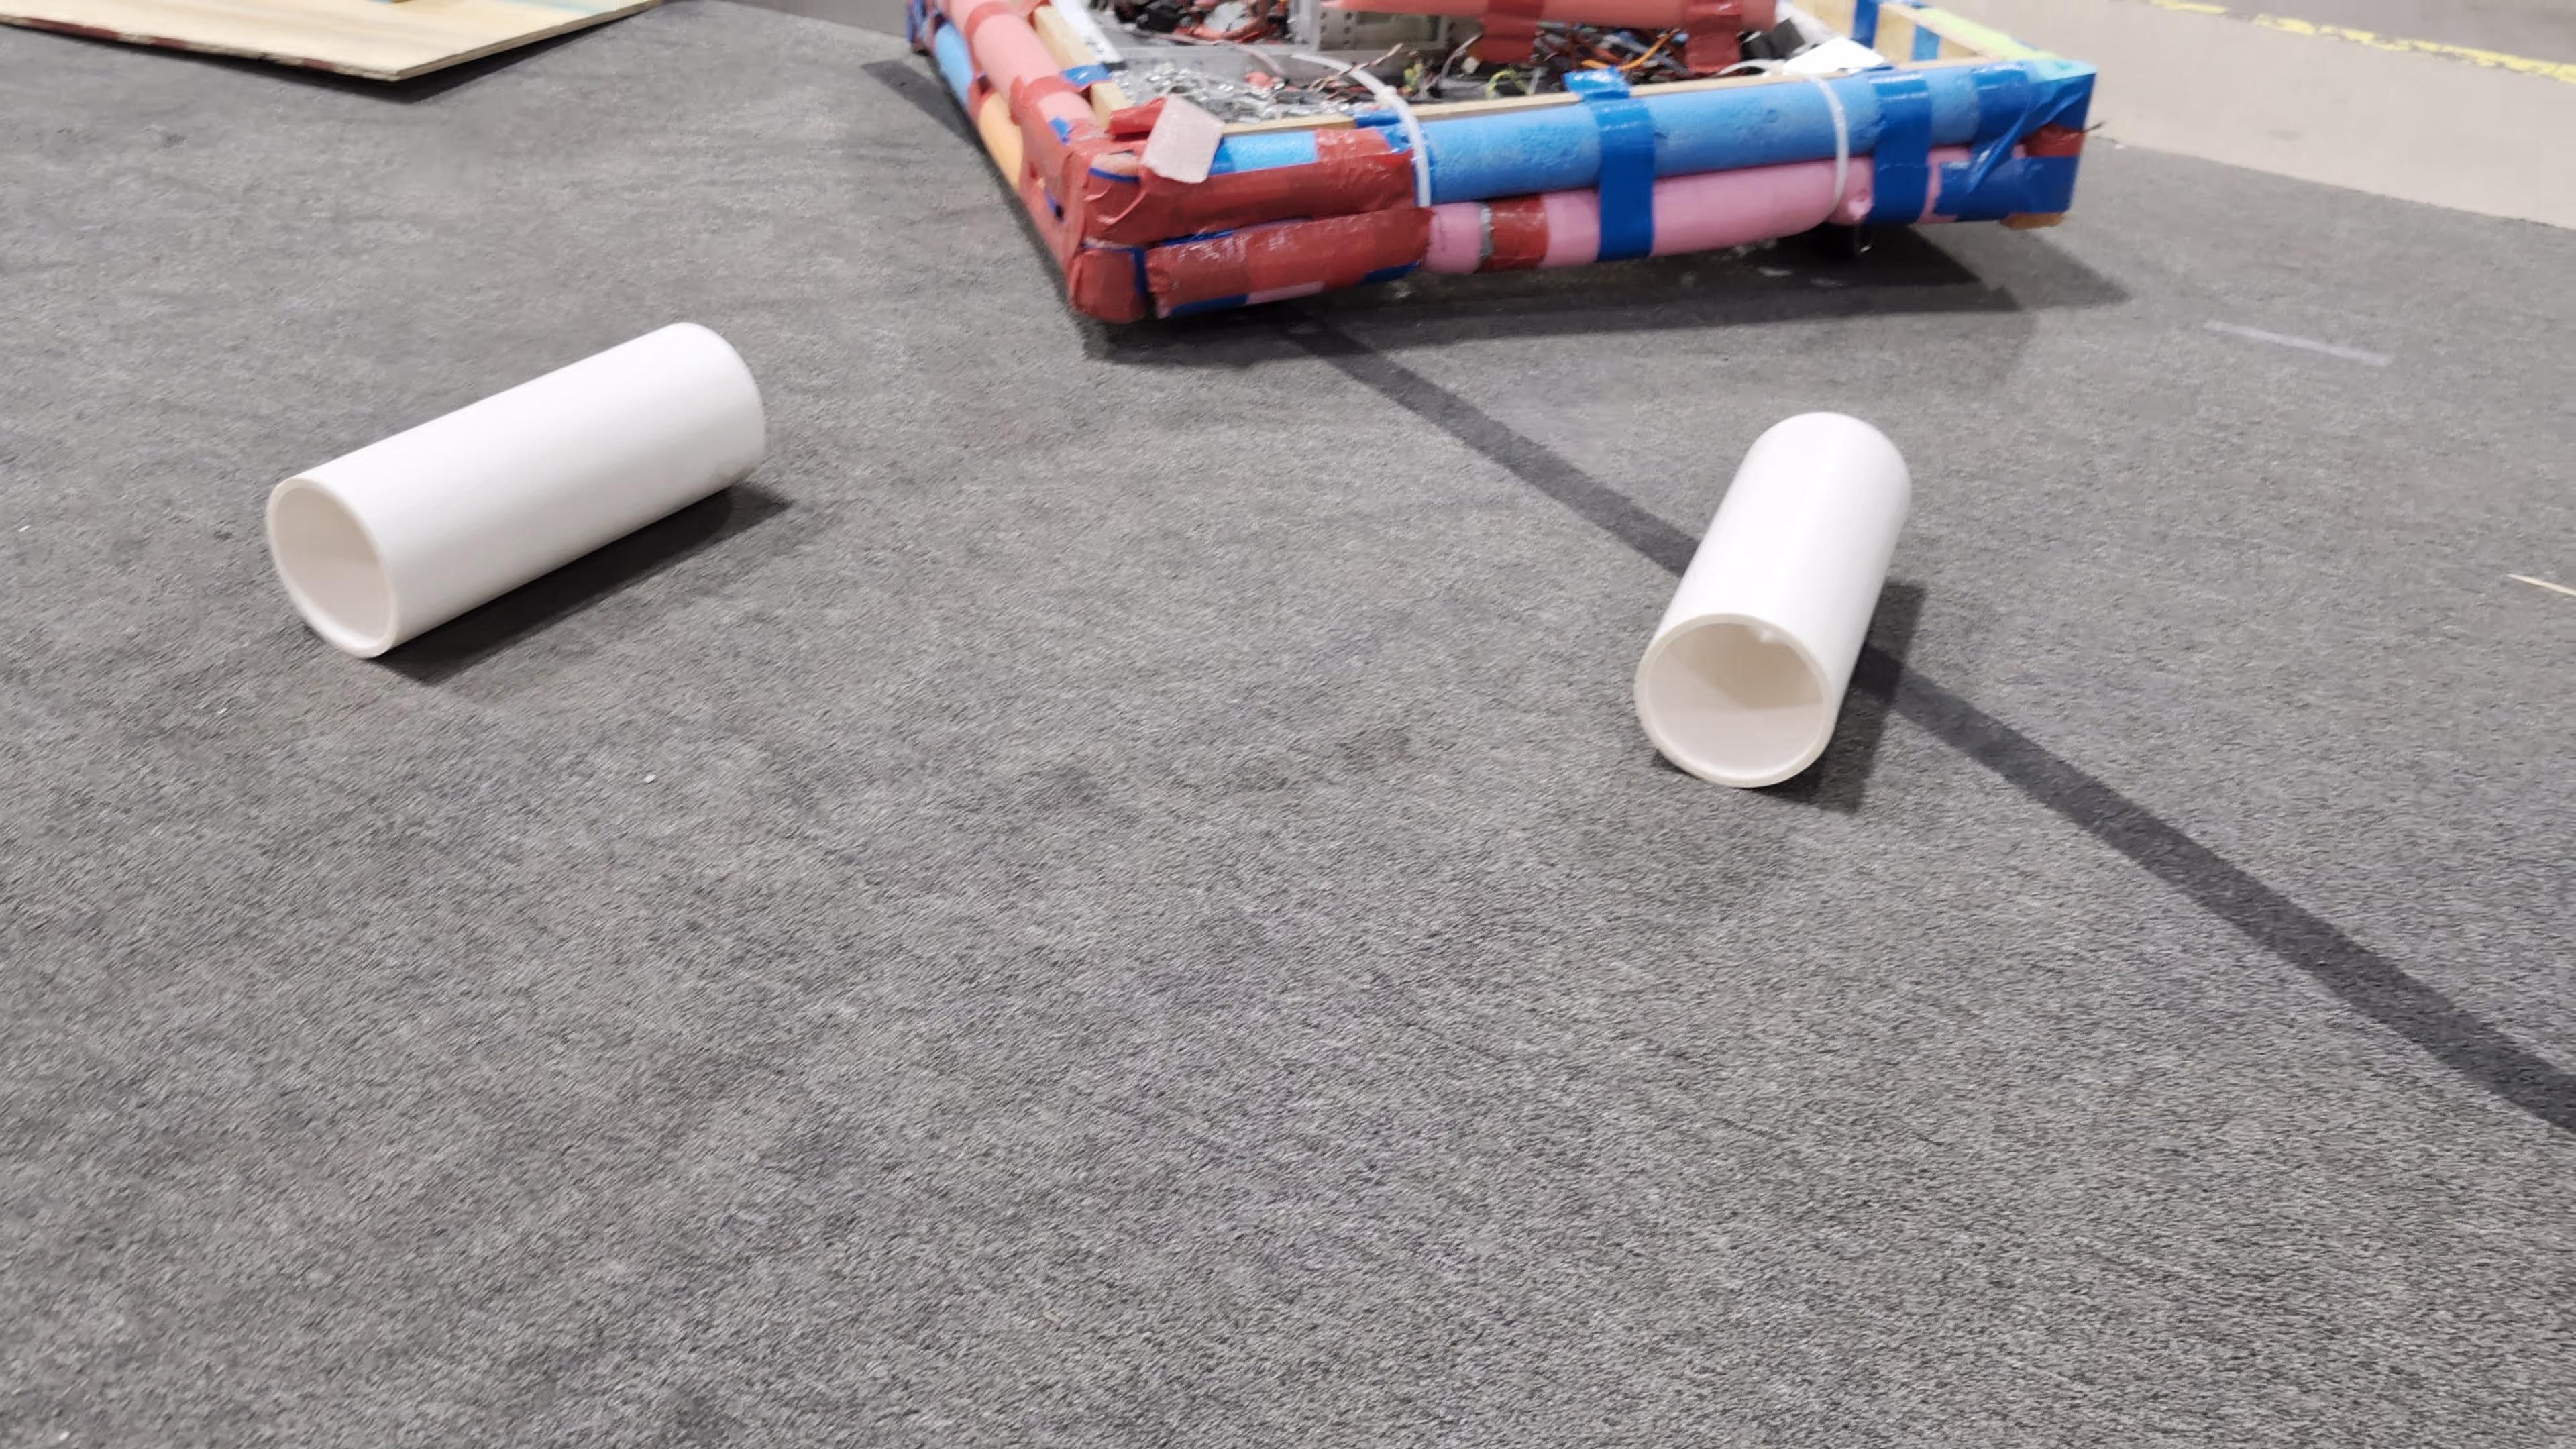coral: (264, 315, 770, 658), (1631, 405, 1916, 786)
